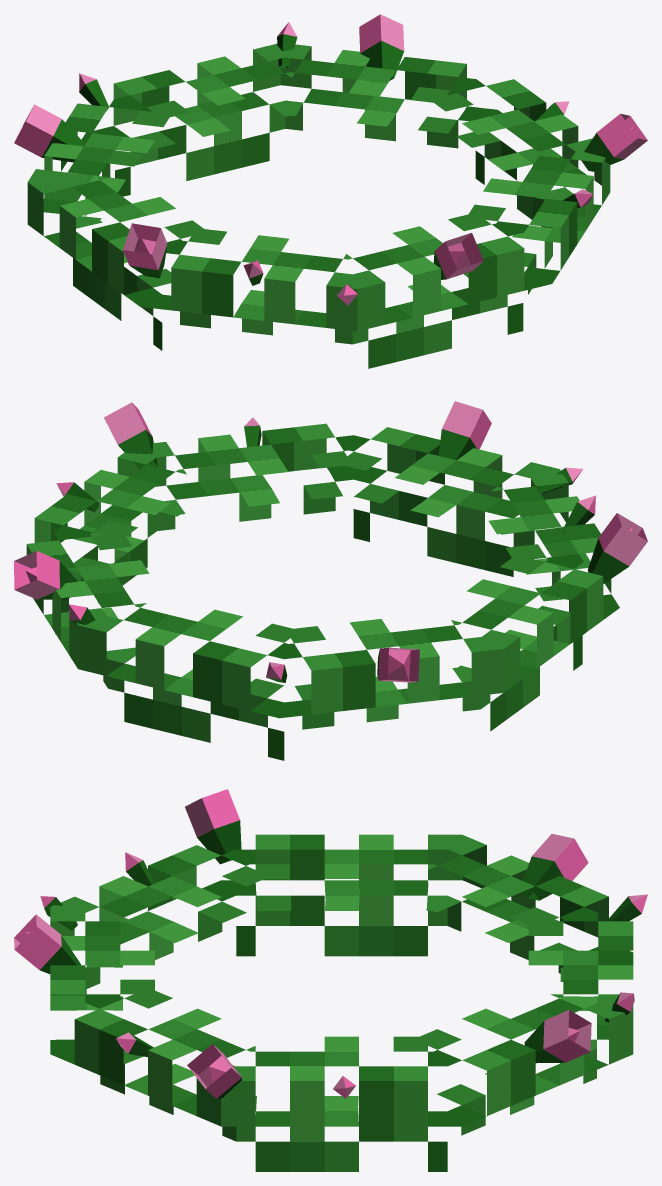
Rendered from boss_trophy_fey_summer_2.obj.
3 renders of one model, top to bottom at view 1: azimuth 30°, elevation 25°; view 2: azimuth 150°, elevation 25°; view 3: azimuth 270°, elevation 25°, orthographic. The views are drawn at different scales.
Visible parts, largest first — view 1: BOSS_TROPHY_FEY_SUMMER_2_Plane.012; view 2: BOSS_TROPHY_FEY_SUMMER_2_Plane.012; view 3: BOSS_TROPHY_FEY_SUMMER_2_Plane.012.
Part boxes in pixels (x1=…): BOSS_TROPHY_FEY_SUMMER_2_Plane.012: x1=14, y1=14, x2=647, y2=368; BOSS_TROPHY_FEY_SUMMER_2_Plane.012: x1=14, y1=401, x2=647, y2=760; BOSS_TROPHY_FEY_SUMMER_2_Plane.012: x1=14, y1=789, x2=647, y2=1171.
Bounding box in the file's own units: 1.21 × 0.3074 × 1.18.
